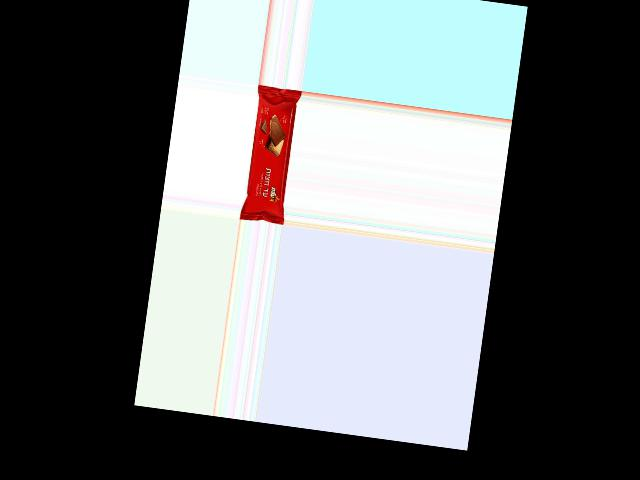chocolate: (239, 86, 301, 221)
